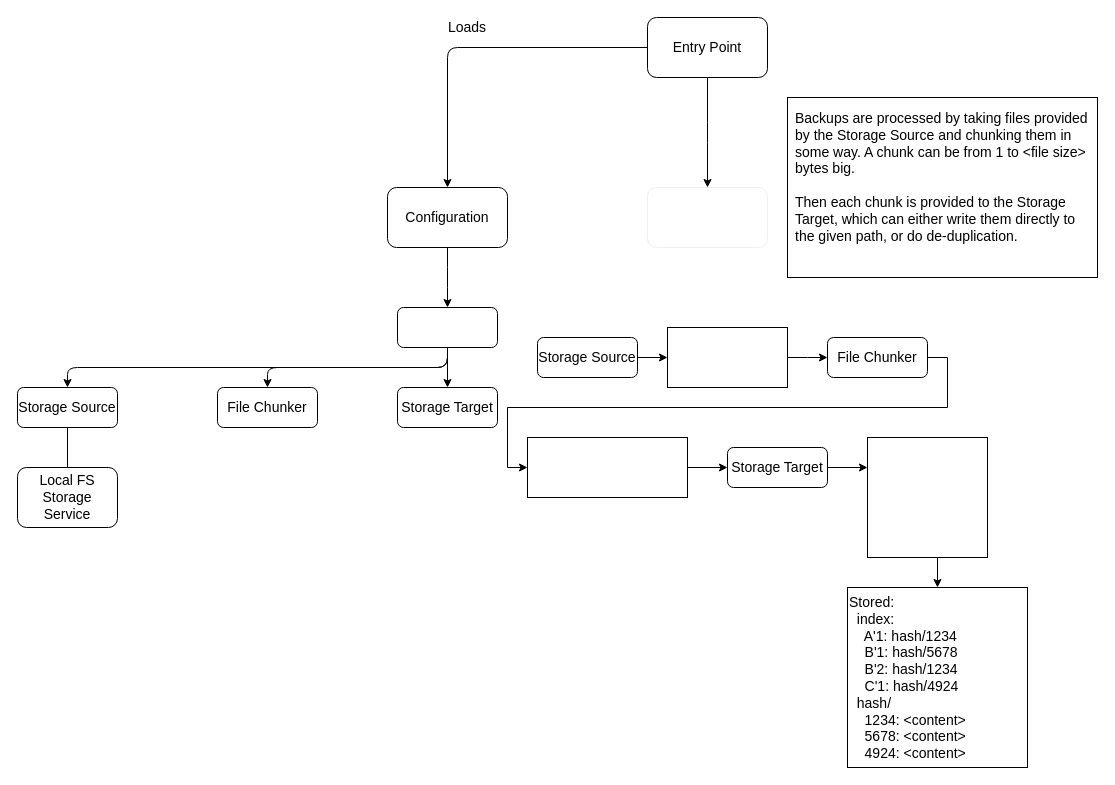
The diagram is 1115 pixels wide and 785 high, and some of its shapes have lost their labels. The centre of each missing label's shape, as x and y in pixels:
Backup Processing: the point at 707,217
Chunk hashes: A'1: 1234 B'1: 5678 B'2: 1234 C'1: 4924: the point at 927,497
Chunks: A'1, B'1, B'2, C'1: the point at 607,467
Files: A, B, C: the point at 727,357
Setups: the point at 447,327
